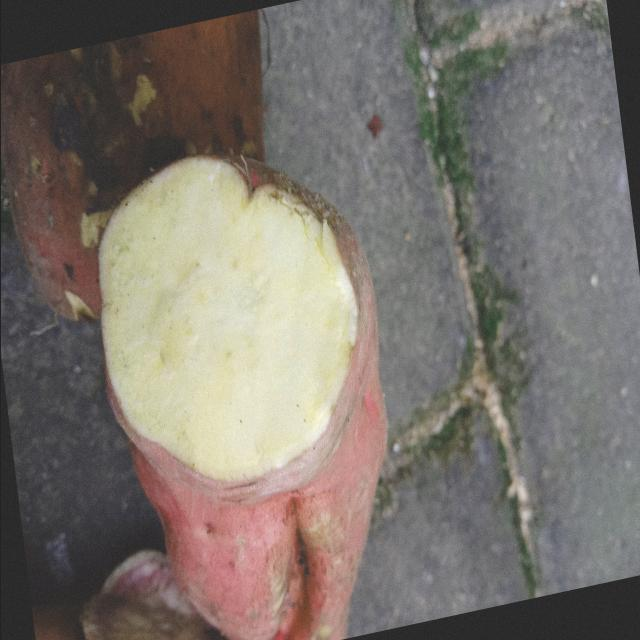Healthy Sweet Potato: (99, 157, 355, 480)
